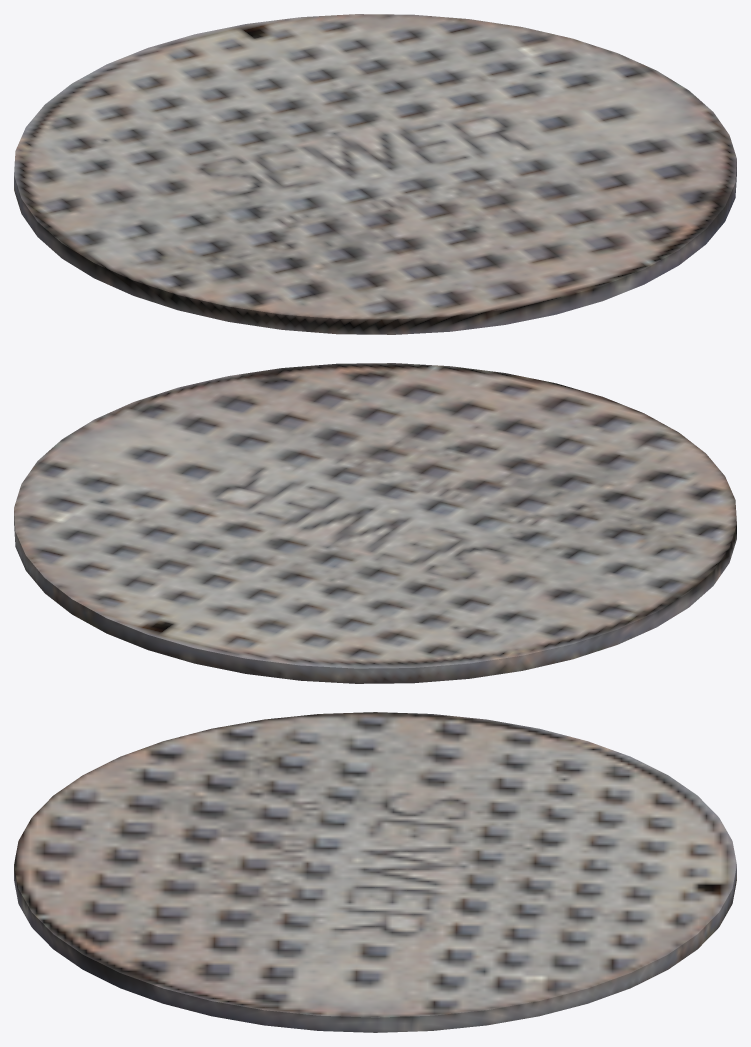
File: tj_manhole.fbx
3 views of the same model, one above another, from view 1: azimuth 30°, elevation 25°; view 2: azimuth 150°, elevation 25°; view 3: azimuth 270°, elevation 25° (orthographic).
Visible parts, largest first — view 1: tj_manhole_LOD0; view 2: tj_manhole_LOD0; view 3: tj_manhole_LOD0.
Boxes of the visible parts, <box> form: tj_manhole_LOD0: <box>14,14,736,334</box>; tj_manhole_LOD0: <box>14,363,736,683</box>; tj_manhole_LOD0: <box>14,712,736,1032</box>.
Size of what is drawn, in the model's own units: 0.9967 by 0.0232 by 0.9967.
1 material, 1 textured.
